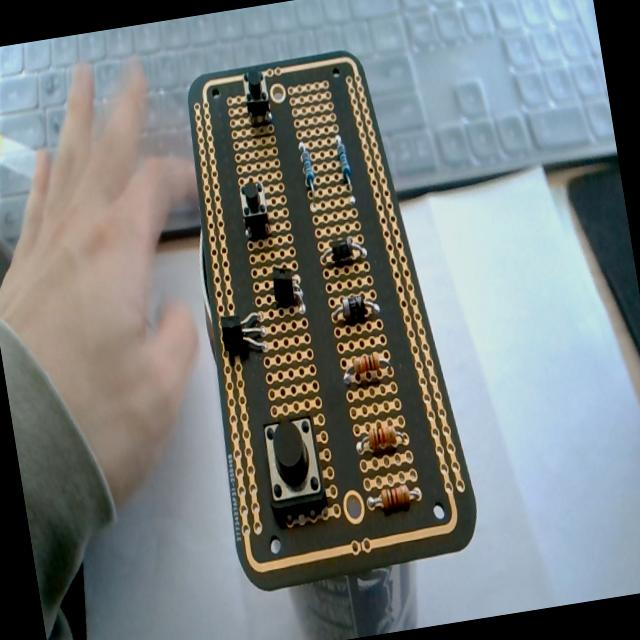diode: (330, 292, 380, 326), (320, 233, 368, 266)
resistor: (340, 348, 392, 388), (365, 483, 422, 517), (356, 419, 408, 456), (298, 140, 318, 192), (333, 134, 352, 186)
switch: (258, 412, 329, 522), (238, 178, 272, 238), (240, 68, 273, 124)
transistor: (218, 307, 270, 358), (268, 266, 308, 318)
